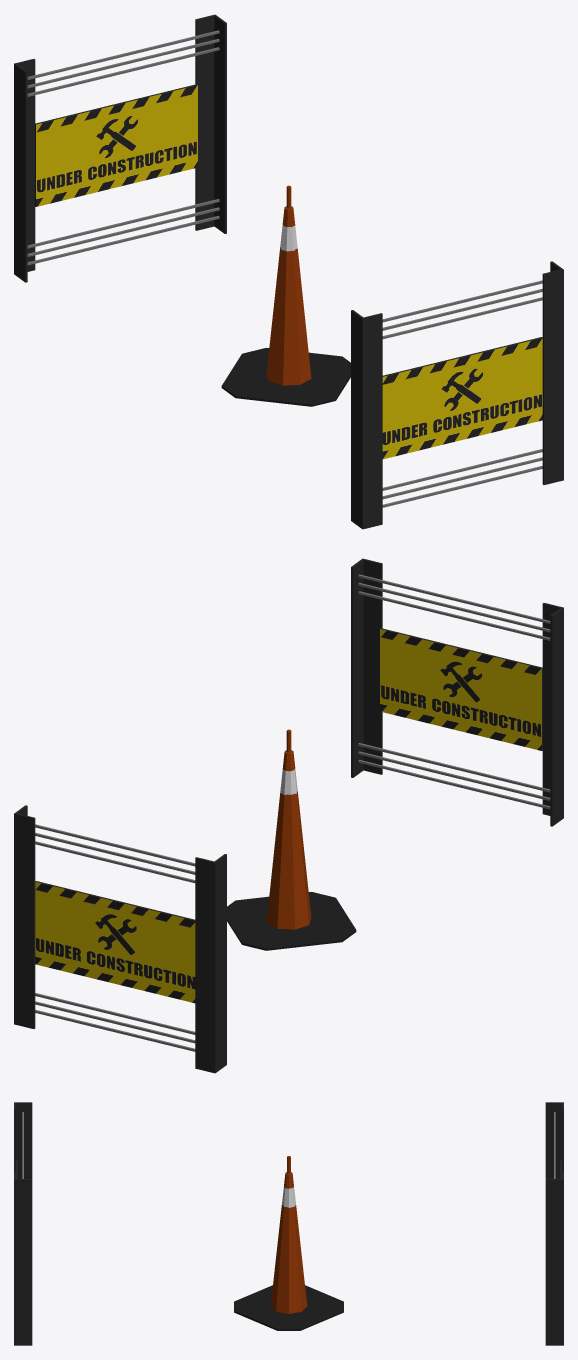
File: construction_marker_advance.obj
3 views of the same model, one above another, from view 1: azimuth 30°, elevation 25°; view 2: azimuth 150°, elevation 25°; view 3: azimuth 270°, elevation 25° (orthographic). The views are drawn at different scales.
Visible parts, largest first — view 1: RAIL_LEFT_Cube.001, RAIL_RIGHT_Cube.000, RAIL_BASE_Cube.013; view 2: RAIL_RIGHT_Cube.000, RAIL_LEFT_Cube.001, RAIL_BASE_Cube.013; view 3: RAIL_BASE_Cube.013, RAIL_RIGHT_Cube.000, RAIL_LEFT_Cube.001.
Part boxes in pixels (<box>): RAIL_LEFT_Cube.001: <box>351,261,563,529</box>; RAIL_RIGHT_Cube.000: <box>14,14,226,282</box>; RAIL_BASE_Cube.013: <box>221,185,350,406</box>; RAIL_RIGHT_Cube.000: <box>14,805,226,1073</box>; RAIL_LEFT_Cube.001: <box>351,558,563,826</box>; RAIL_BASE_Cube.013: <box>227,729,356,950</box>; RAIL_BASE_Cube.013: <box>234,1156,343,1330</box>; RAIL_RIGHT_Cube.000: <box>545,1102,563,1345</box>; RAIL_LEFT_Cube.001: <box>14,1102,32,1345</box>.
Bounding box in the file's own units: 1 × 1 × 3.
4 materials, 4 textured.
